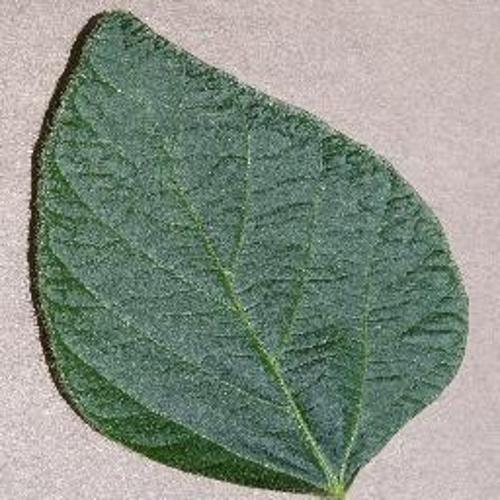Soybean: (35, 12, 467, 500)
